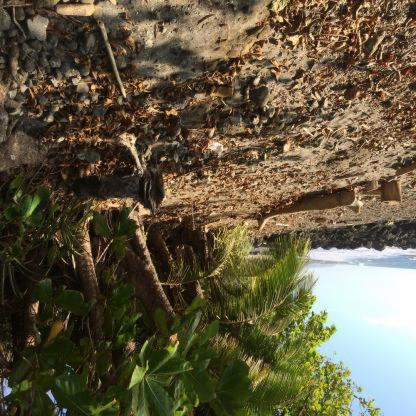Bottle: (207, 141, 209, 144)
Bottle cap: (207, 140, 223, 154)
